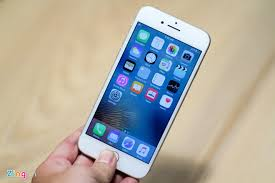iphone: (67, 3, 213, 183)
iphone7: (65, 1, 211, 181)
